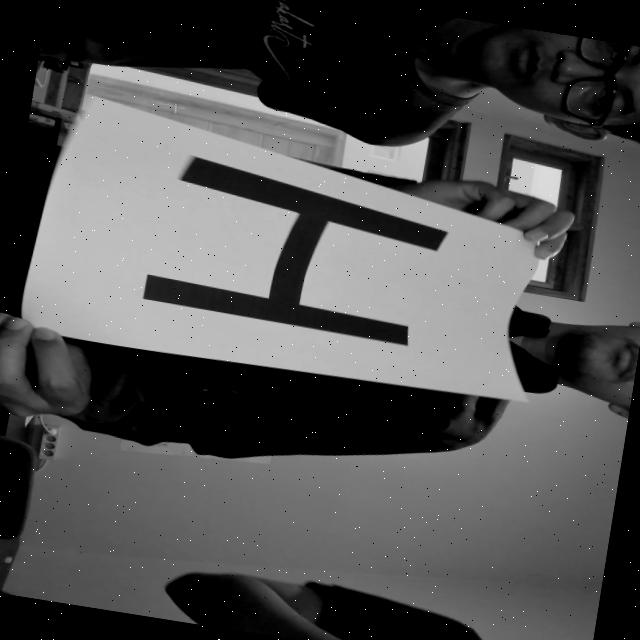h: (123, 142, 464, 362)
